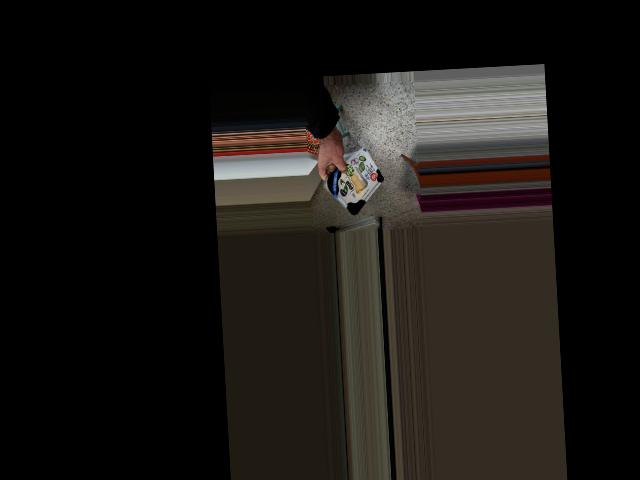cheese: (309, 156, 388, 208)
